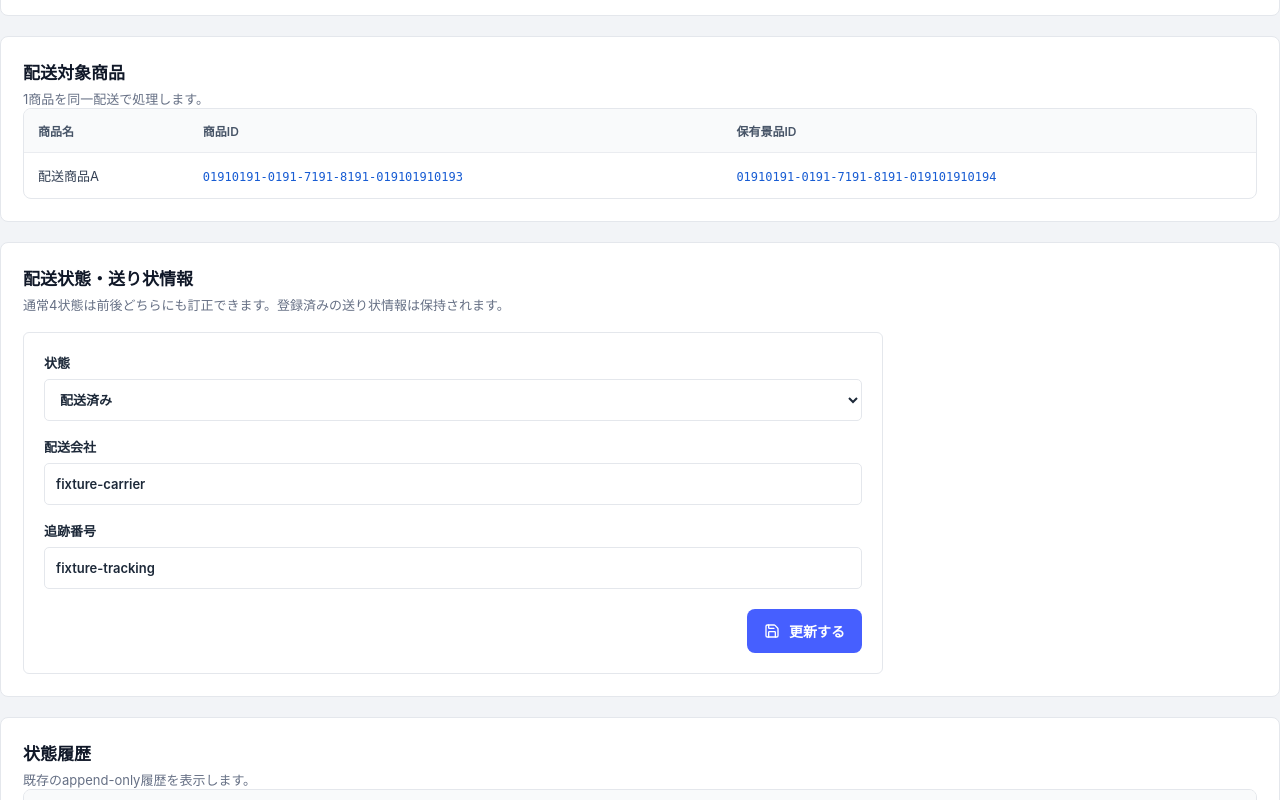
Admin Shipping management › renders detail and updates carrier, tracking, and a reverse status transition
(page scrolled)
Check: the text "配送商品A" is shown, box [24,153,189,198]
Select "配送手配済み" in the dropdown named "配送状態" at (453, 400), box [44,379,862,421]
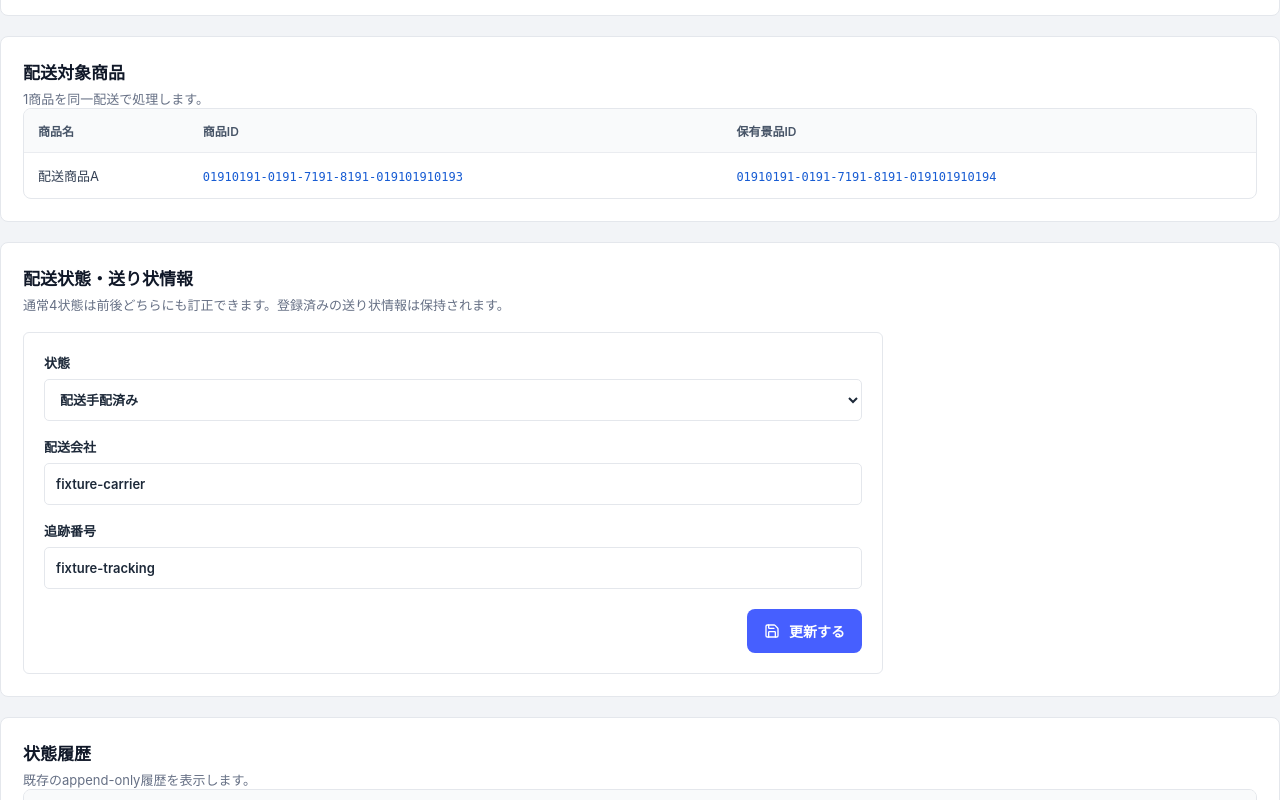
Replace the text in the field labelled "配送会社" with "updated-carrier" at (453, 484), box [44,463,862,505]
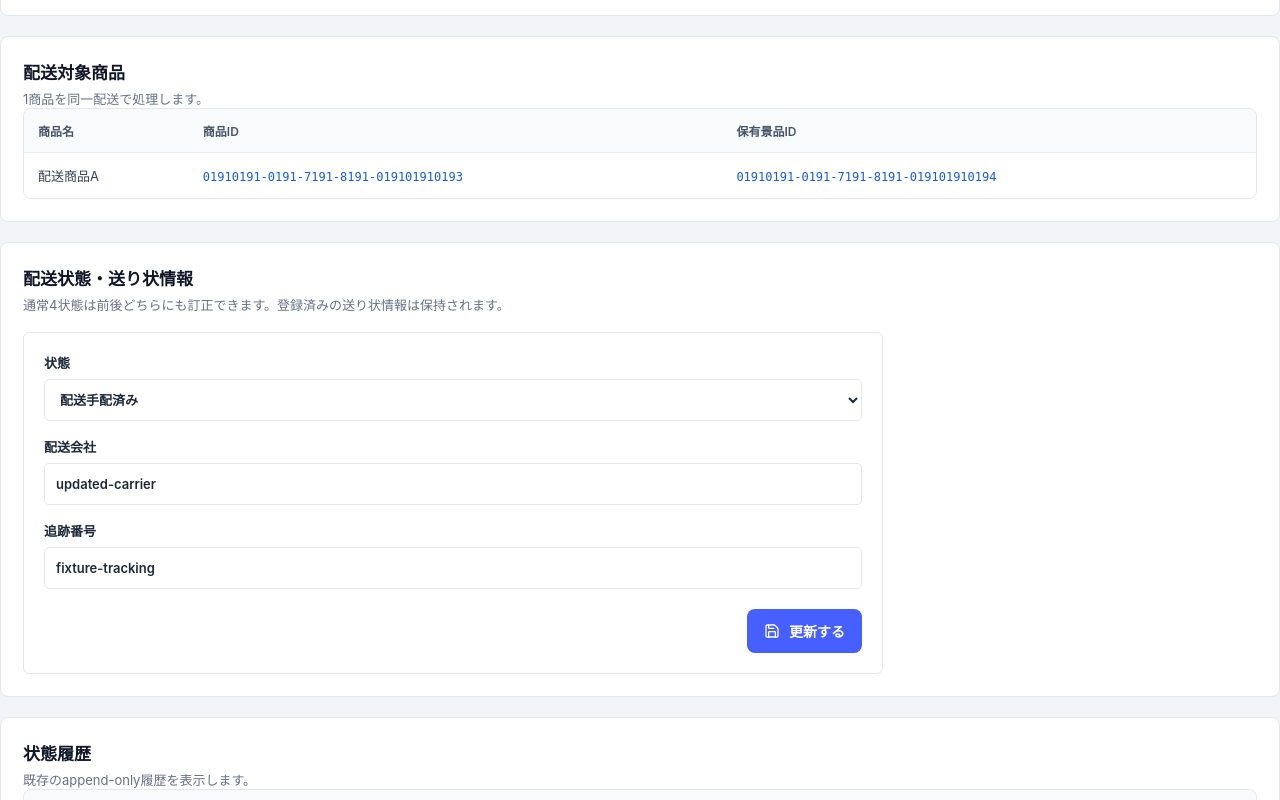
Replace the text in the field labelled "追跡番号" with "updated-tracking" at (453, 568), box [44,547,862,589]
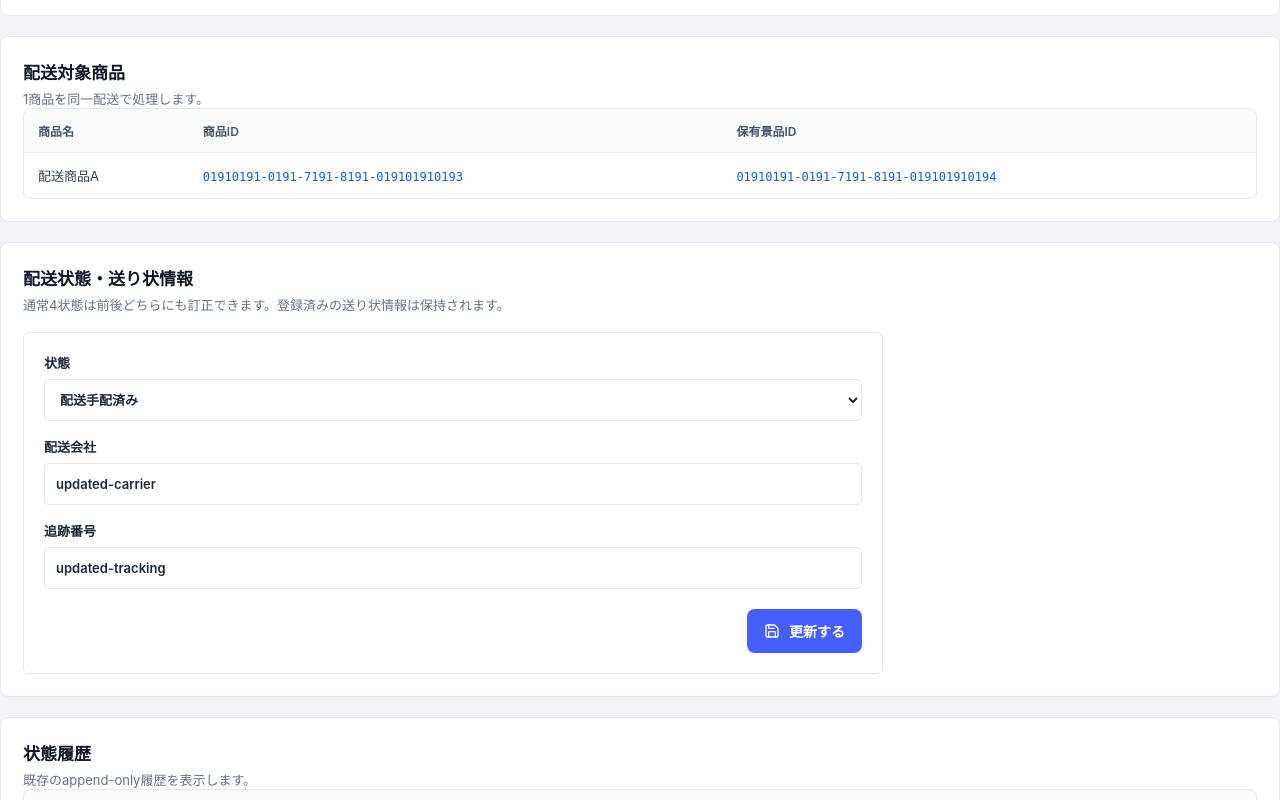
Click the button "更新する" at (804, 631), box [747,609,862,653]
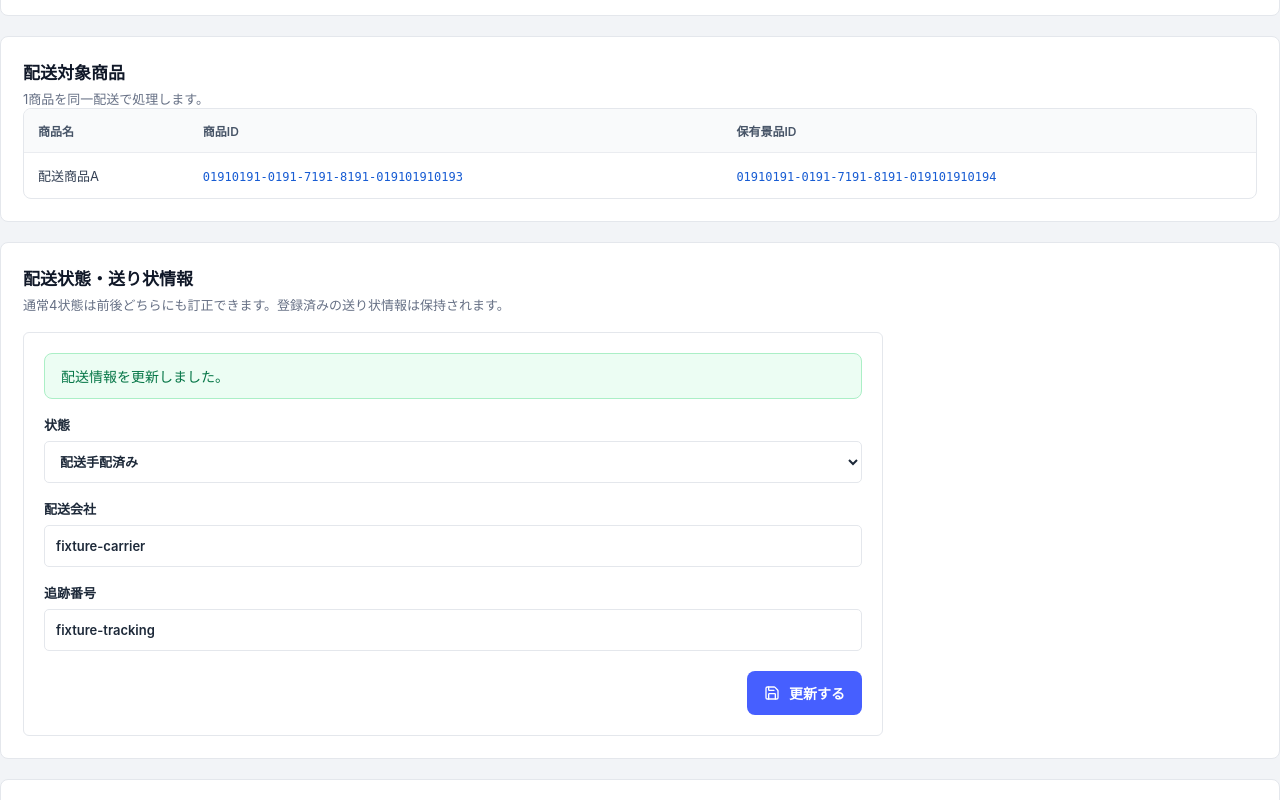
Check: the text "配送情報を更新しました。" is shown, box [44,353,862,399]
